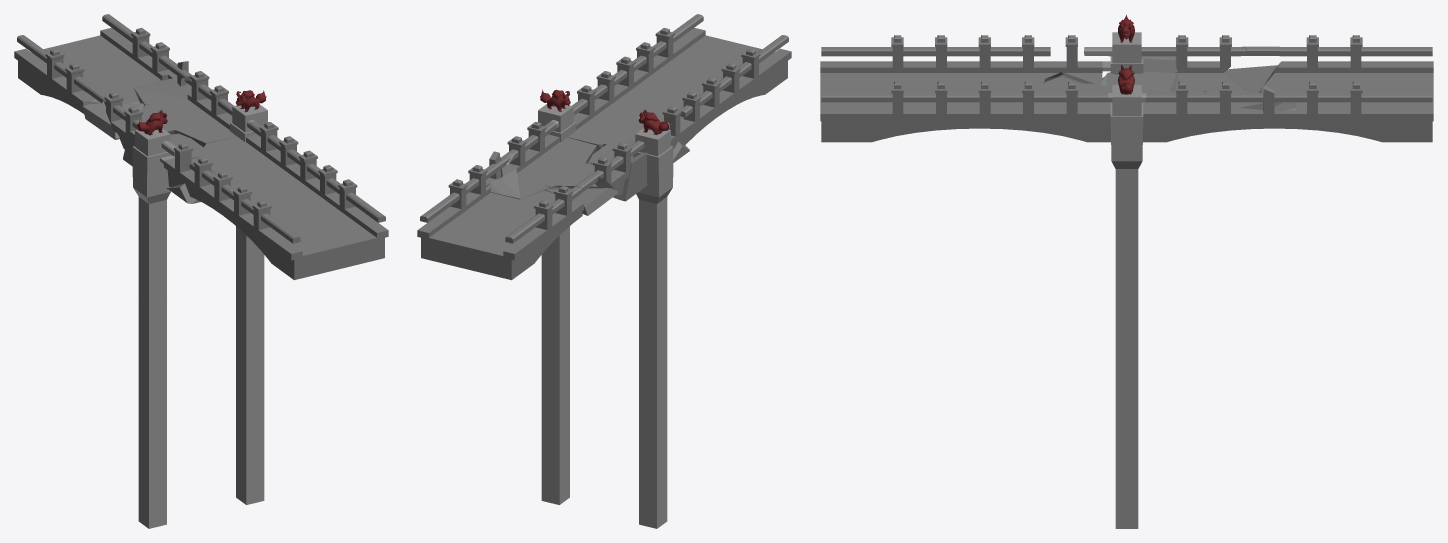
Rendered from Bridge_Destructible_2.fbx.
The picture shows the model from 3 angles, left to right: view 1: azimuth 30°, elevation 25°; view 2: azimuth 150°, elevation 25°; view 3: azimuth 270°, elevation 25°; orthographic projection. The views are drawn at different scales.
Visible parts, largest first — view 1: Bridge.8, Bridge, Pillar; view 2: Bridge.8, Bridge, Pillar; view 3: Bridge, Bridge.8, Pillar.
Part boxes in pixels (bbox=[...]): Bridge.8: bbox=[76, 61, 281, 404]; Bridge: bbox=[14, 14, 388, 280]; Pillar: bbox=[138, 338, 264, 528]; Bridge.8: bbox=[486, 85, 690, 406]; Bridge: bbox=[417, 14, 791, 280]; Pillar: bbox=[541, 359, 667, 528]; Bridge: bbox=[820, 35, 1433, 142]; Bridge.8: bbox=[1043, 14, 1296, 393]; Pillar: bbox=[1115, 349, 1138, 528].
Size of the model in its own units: 2312 by 7147 by 8759.
